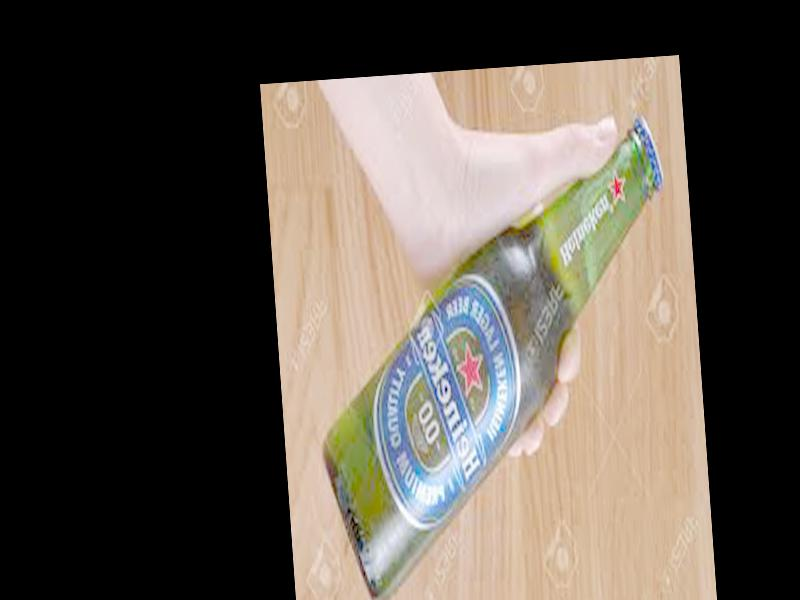Beer: (298, 117, 692, 600)
